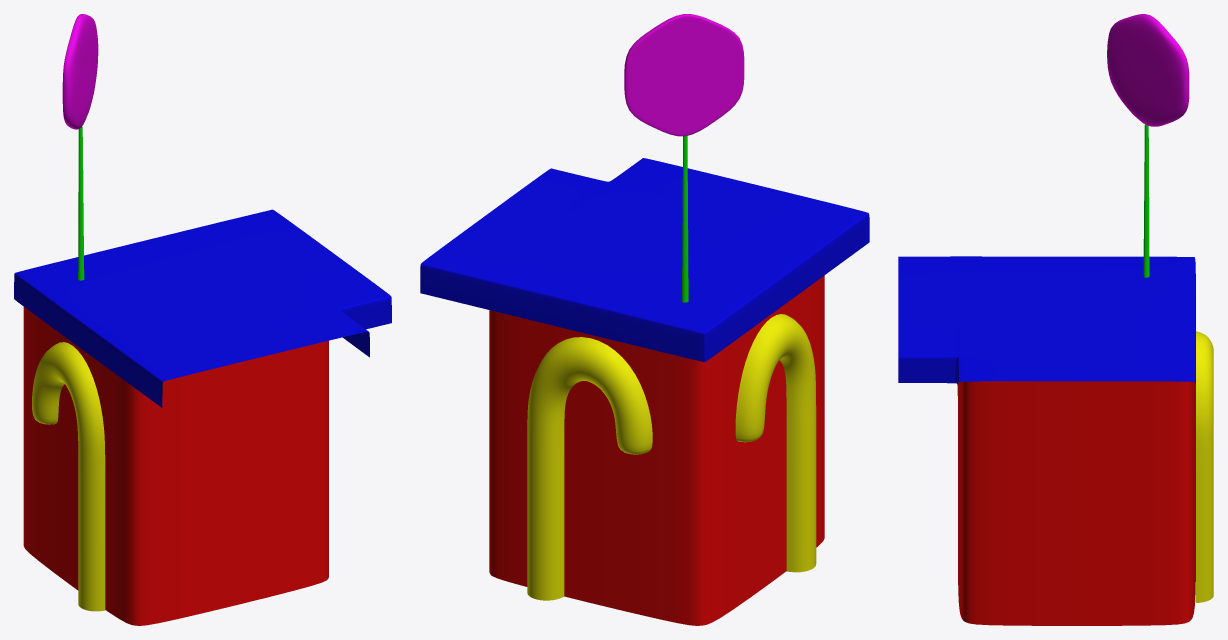
Rendered from Kundentheke_3_ecke_high.fbx.
3 renders of one model, left to right at view 1: azimuth 30°, elevation 25°; view 2: azimuth 150°, elevation 25°; view 3: azimuth 270°, elevation 25°, orthographic. The views are drawn at different scales.
Visible parts, largest first — view 1: Kundentheke_3_high; view 2: Kundentheke_3_high; view 3: Kundentheke_3_high.
Boxes of the visible parts, x1,y1,x2,y2 form: Kundentheke_3_high: [14, 14, 391, 625]; Kundentheke_3_high: [420, 14, 869, 625]; Kundentheke_3_high: [898, 14, 1213, 625].
Size of the model in its own units: 1.06 by 1.97 by 1.06.
